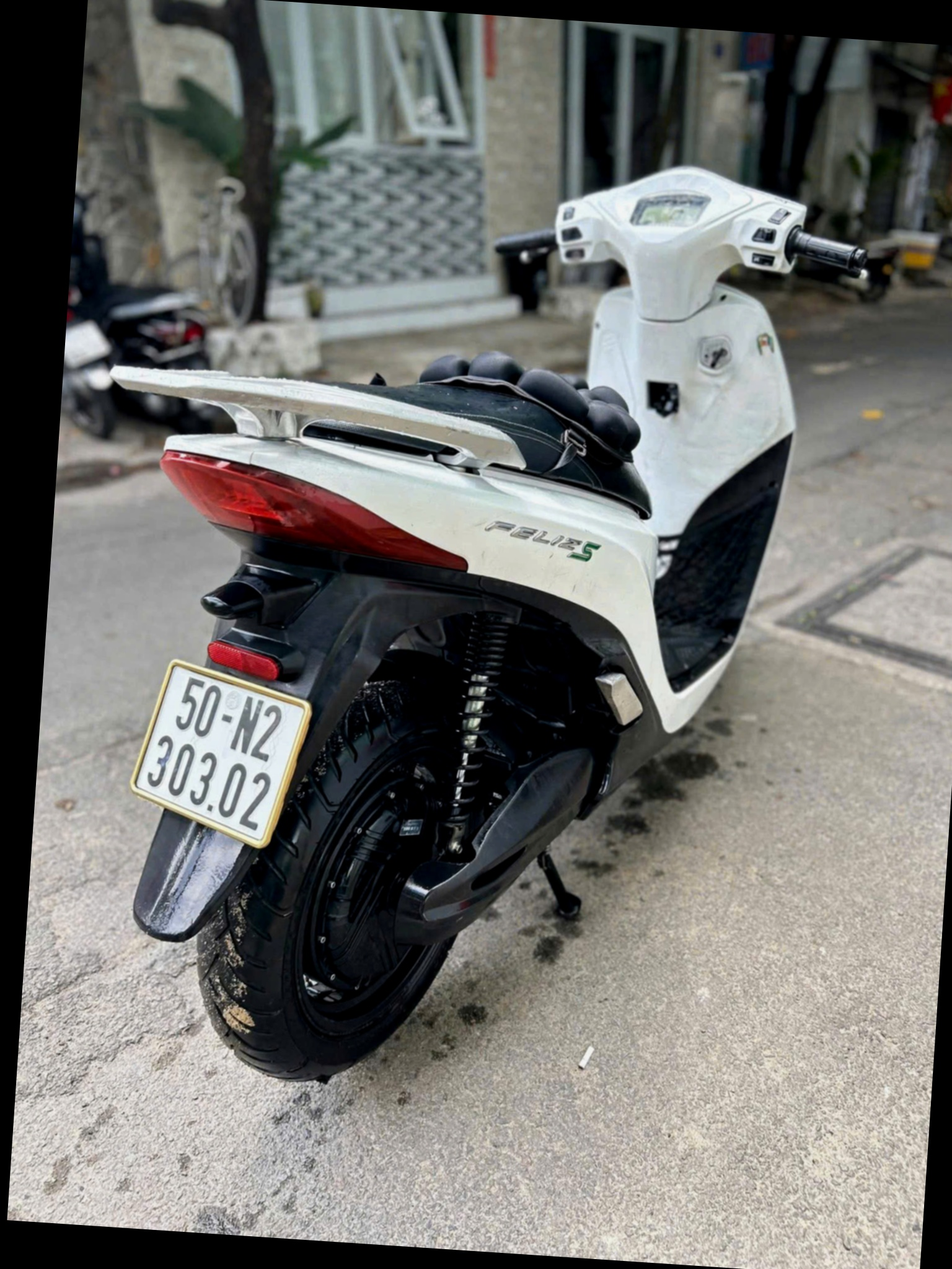Bien-so: (62, 676, 263, 874)
